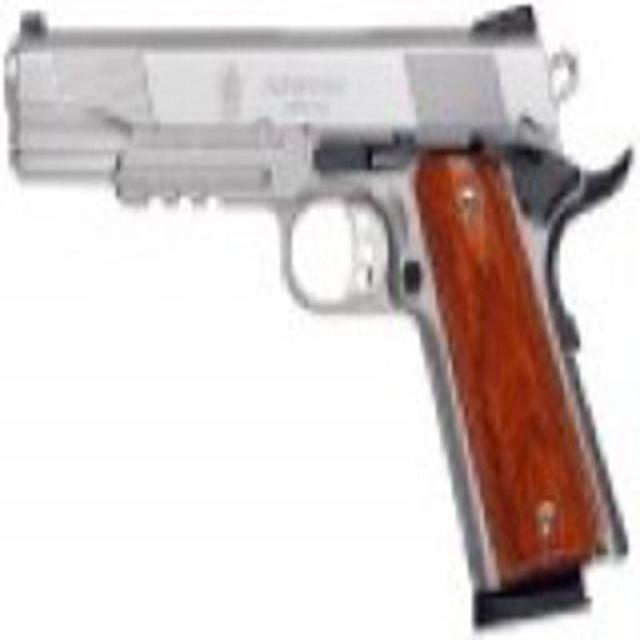pistol: (4, 5, 615, 612)
